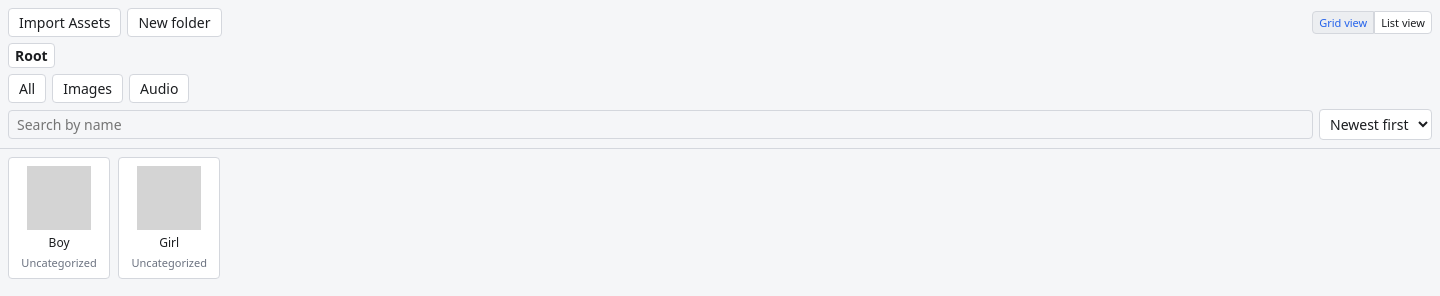
Test case: AssetsPanel › filters the library by name after a debounce while typing
Expected: the text "Girl" is shown, [159, 234, 179, 251]
Step 1. Type "boy" into the search field named "Search assets" → (660, 124), box [8, 110, 1313, 139]
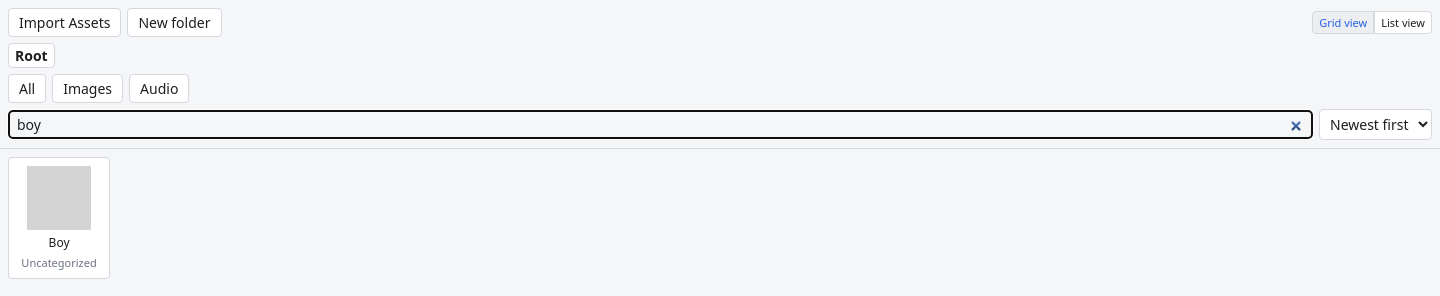
Expected: the text "Boy" is shown, [49, 234, 70, 251]
Expected: the button "Girl" is gone
